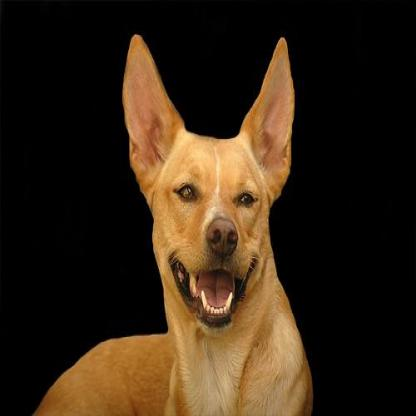kelpie: (32, 27, 315, 414)
